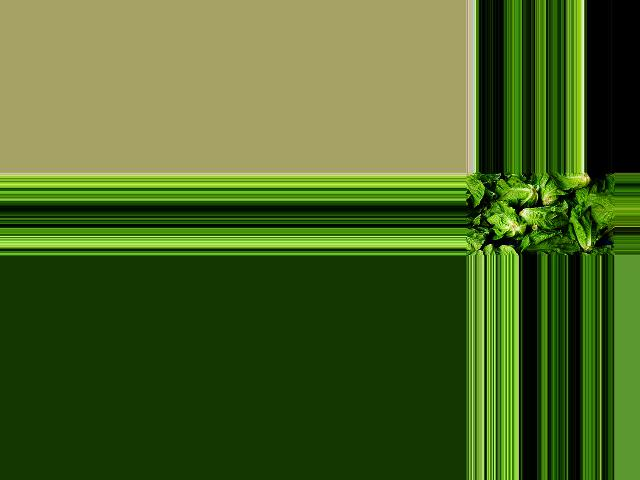lettuce: (547, 173, 597, 191)
